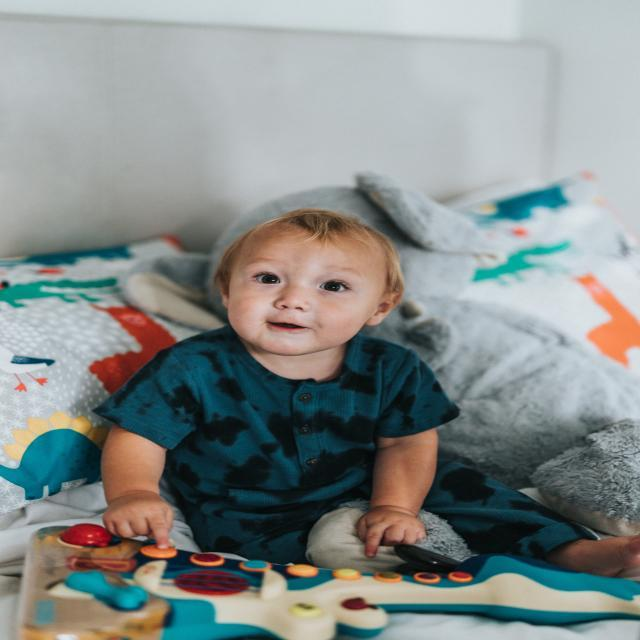non-dog: (89, 210, 640, 583)
